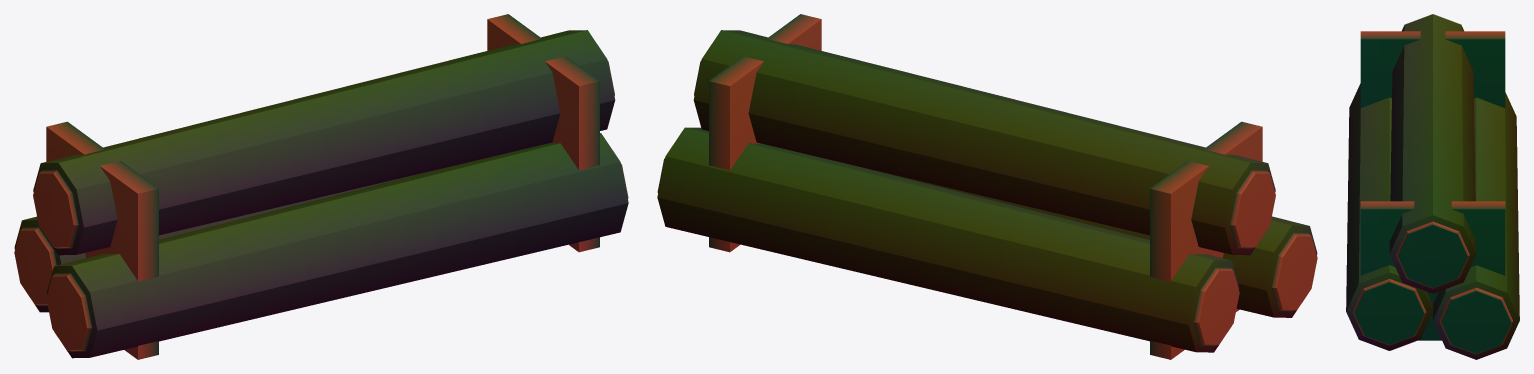
Rendered from LogPile.fbx.
3 views of the same model, side by side, from view 1: azimuth 30°, elevation 25°; view 2: azimuth 150°, elevation 25°; view 3: azimuth 270°, elevation 25° (orthographic). The views are drawn at different scales.
Parts seen in each view (by area): view 1: LogPile; view 2: LogPile; view 3: LogPile.
Part boxes in pixels (x1,y1,x2,y2): LogPile: [14, 14, 628, 359]; LogPile: [657, 14, 1317, 359]; LogPile: [1346, 14, 1519, 359].
Size of the model in its own units: 3.19 by 0.97 by 1.08.
